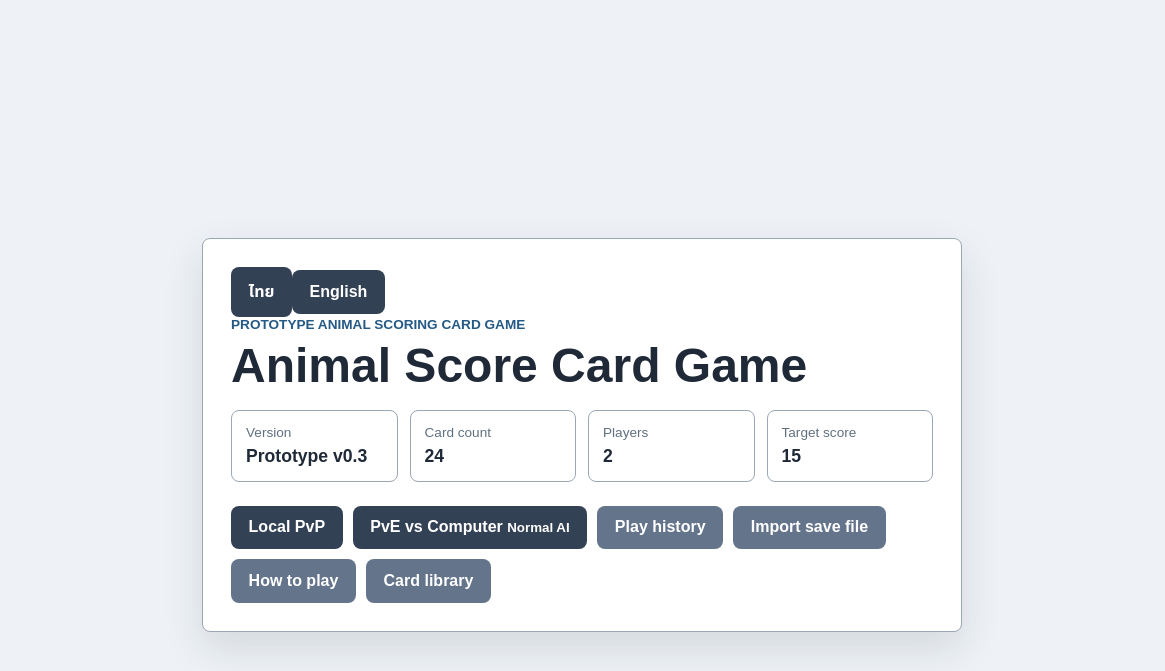
App Phase 4 UI › shows English card names in Card Library when locale is English
Click the button "Card library". click: (428, 581)
box: [366, 559, 491, 603]
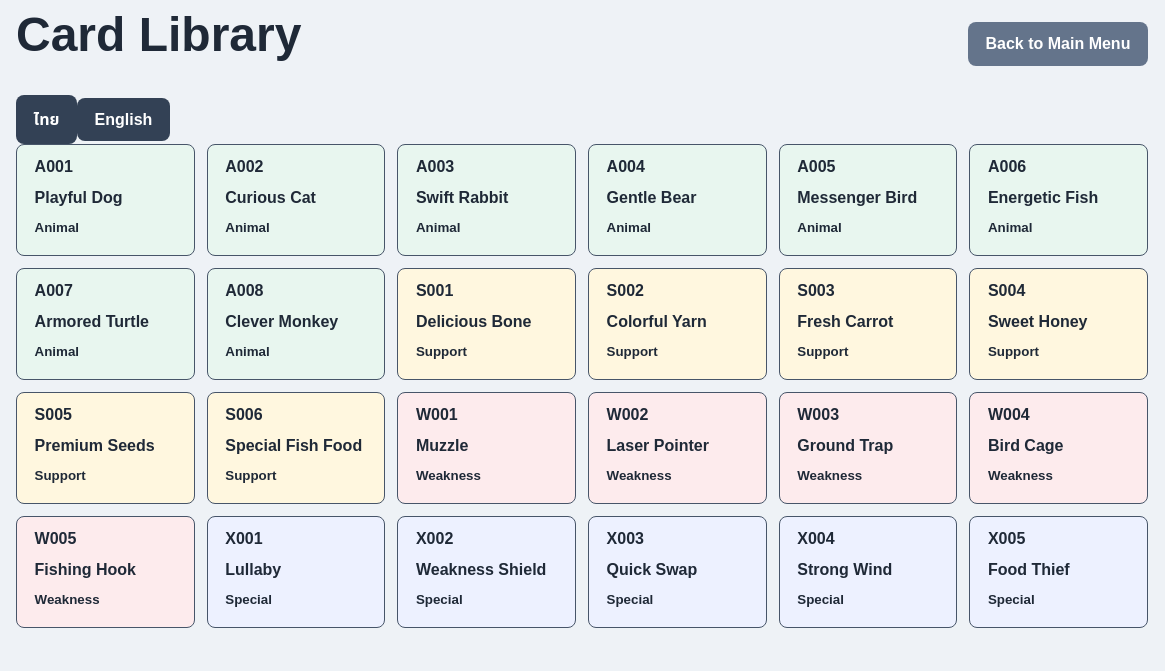
Expected: the text "Playful Dog" is shown, [35, 189, 123, 206]
Expected: the text "Muzzle" is shown, [416, 437, 468, 454]
Expected: the text "Lullaby" is shown, [225, 561, 281, 578]
